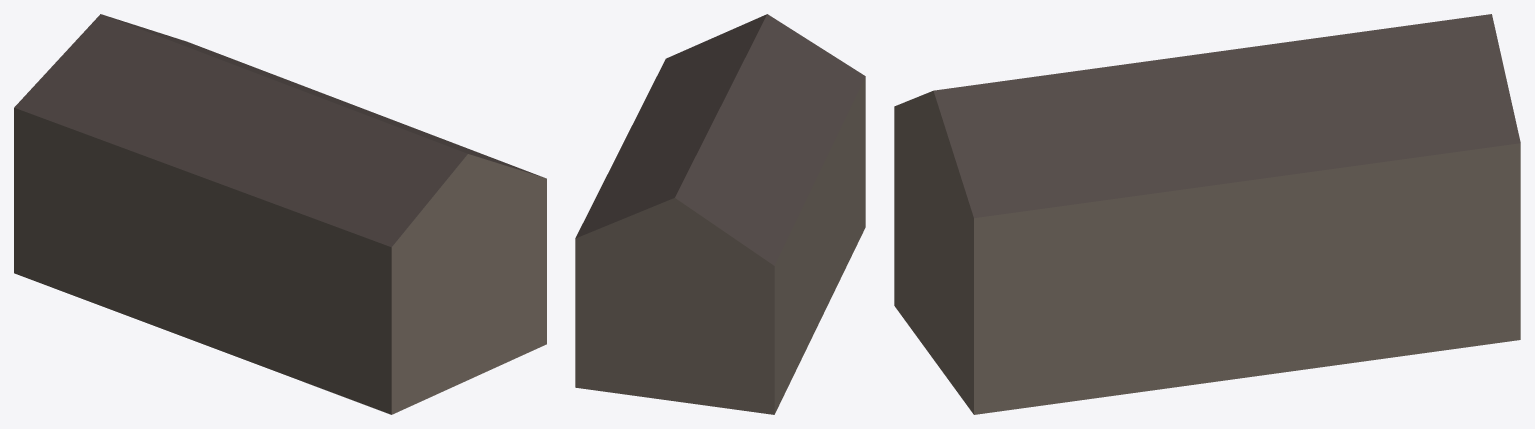
3 renders of one model, left to right at view 1: azimuth 30°, elevation 25°; view 2: azimuth 150°, elevation 25°; view 3: azimuth 270°, elevation 25°, orthographic. The views are drawn at different scales.
Parts seen in each view (by area): view 1: HP-w1198840867; view 2: HP-w1198840867; view 3: HP-w1198840867.
Part boxes in pixels (x1,y1,x2,y2): HP-w1198840867: (14,14,546,414); HP-w1198840867: (575,14,865,414); HP-w1198840867: (894,14,1520,414).
Size of the model in its own units: 12.39 by 8.2 by 17.32.
